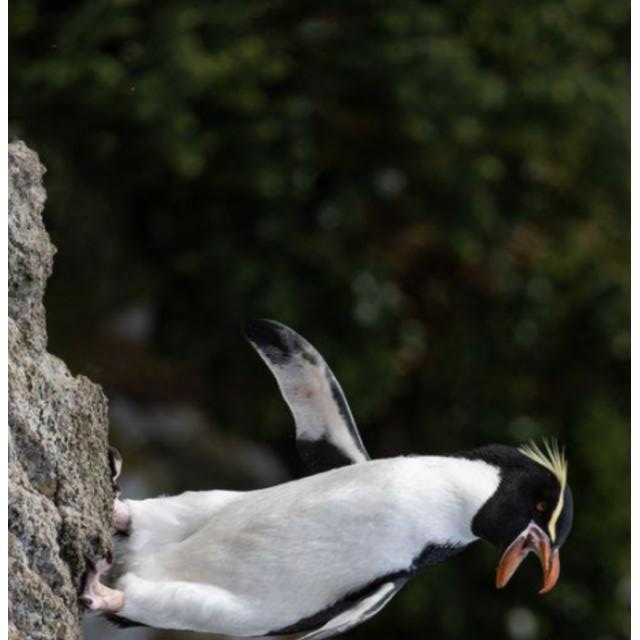penguin: (77, 317, 575, 639)
